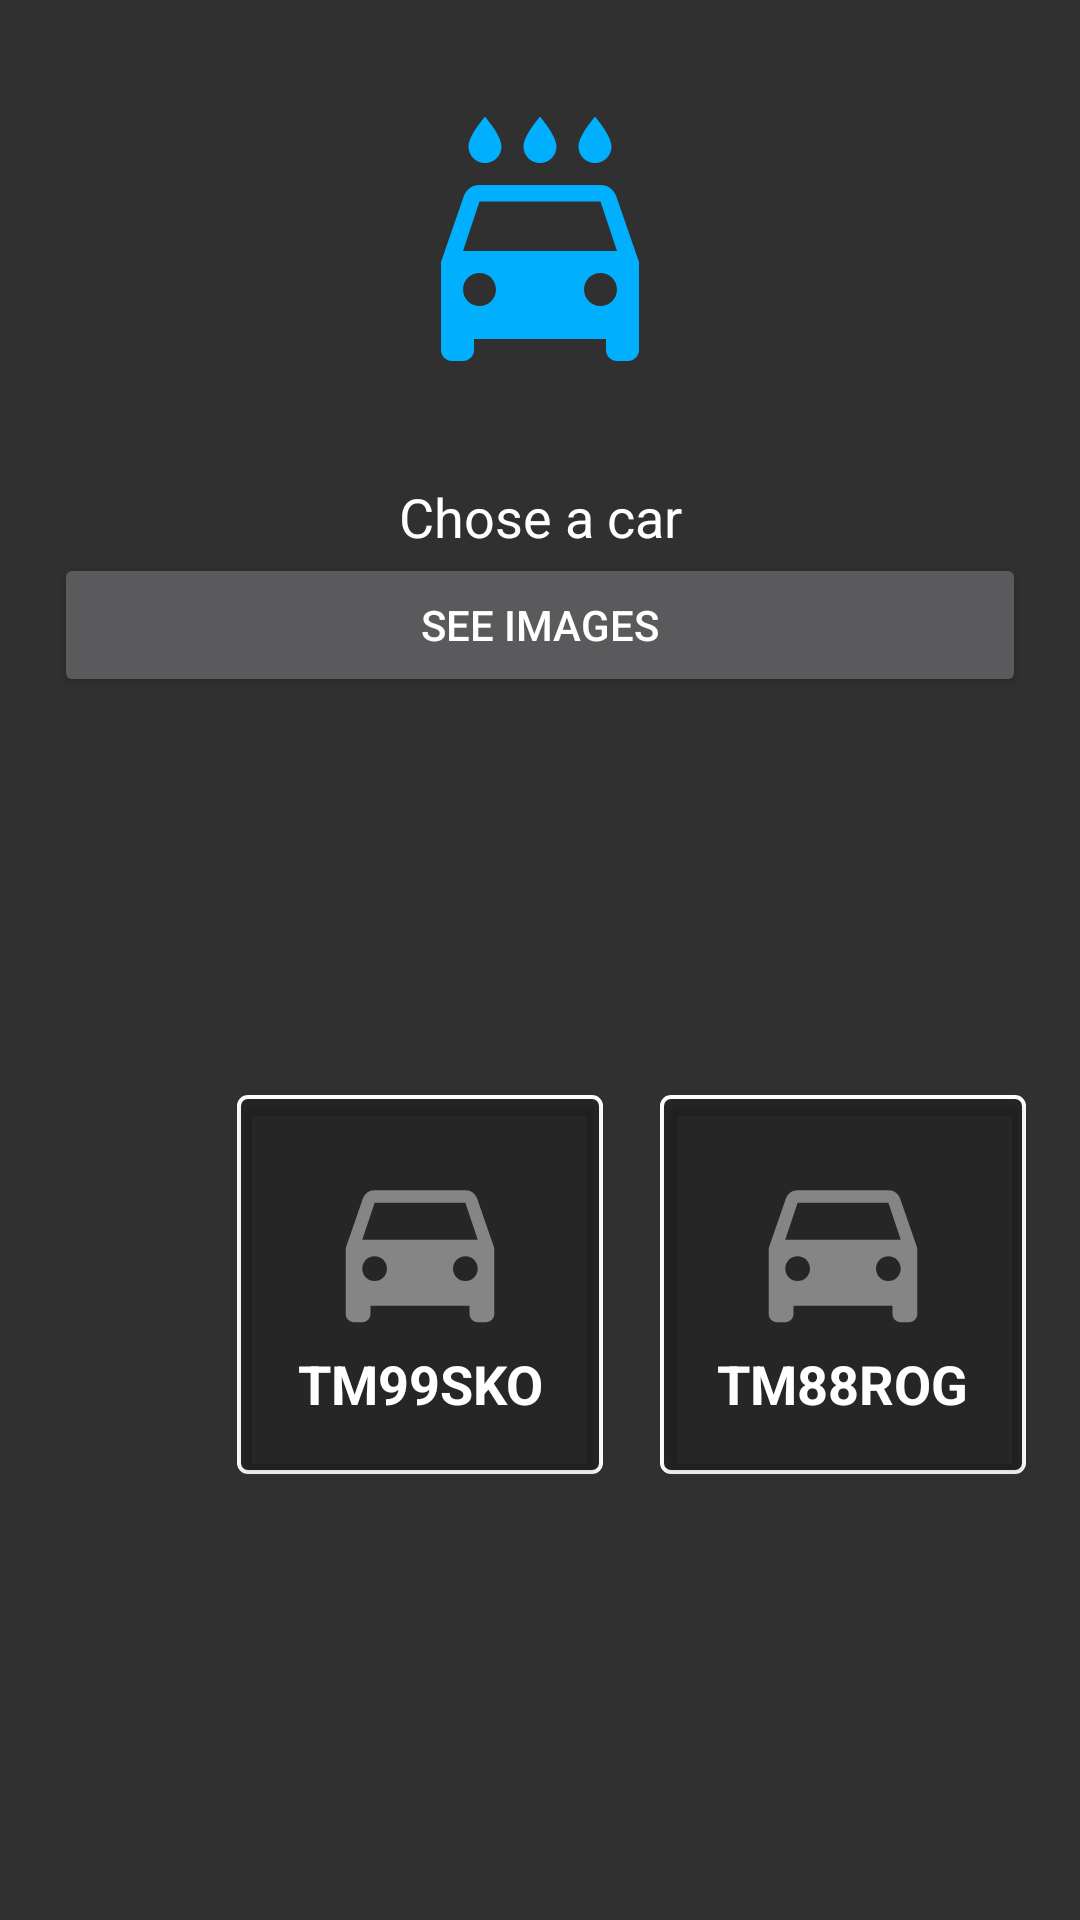

Icon bounding boxes for this 1080 x 1920 phone screenshot, format detection(x1, y1, x2, y2):
car: detection(345, 1190, 495, 1323), detection(768, 1190, 918, 1323)
